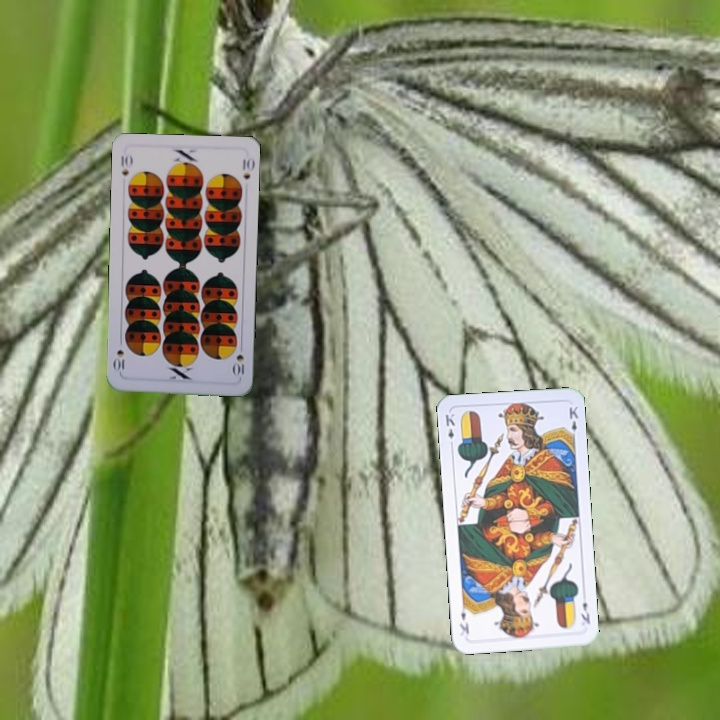EK: (441, 409, 457, 450), (577, 598, 593, 626)
S10: (230, 340, 247, 378), (117, 151, 134, 179)
